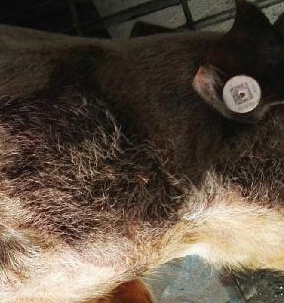text: (212, 59, 274, 125)
